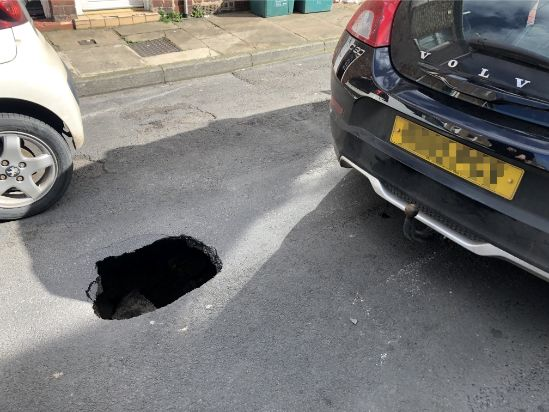pothole: (79, 231, 226, 323)
